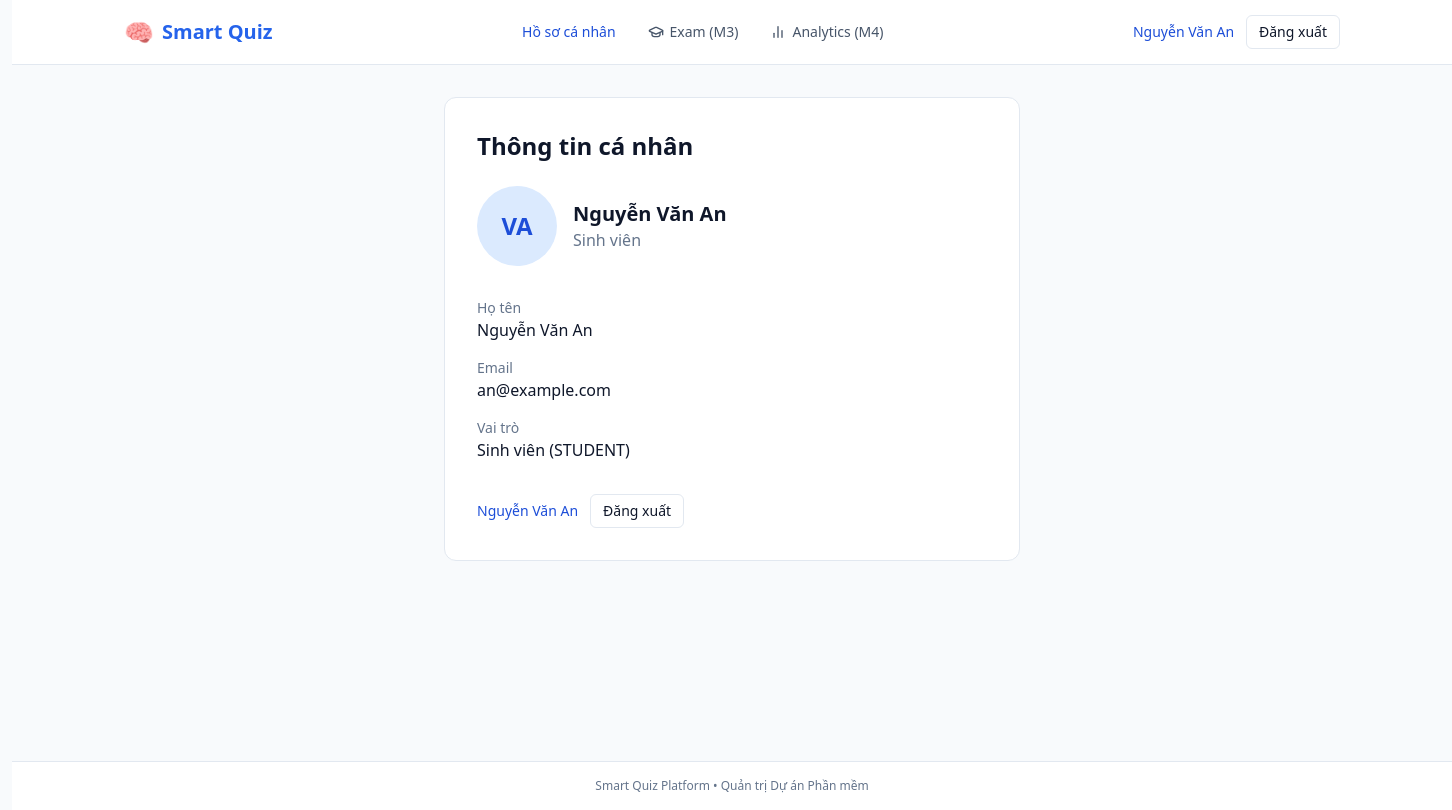
Test: profile and logout › waits for logout before navigating to login
Later steps or results of the test are not shown.
Click the button "Đăng xuất" in the row of "Analytics (M4)": x=1293, y=32 [1246, 15, 1340, 49]
(page scrolled)
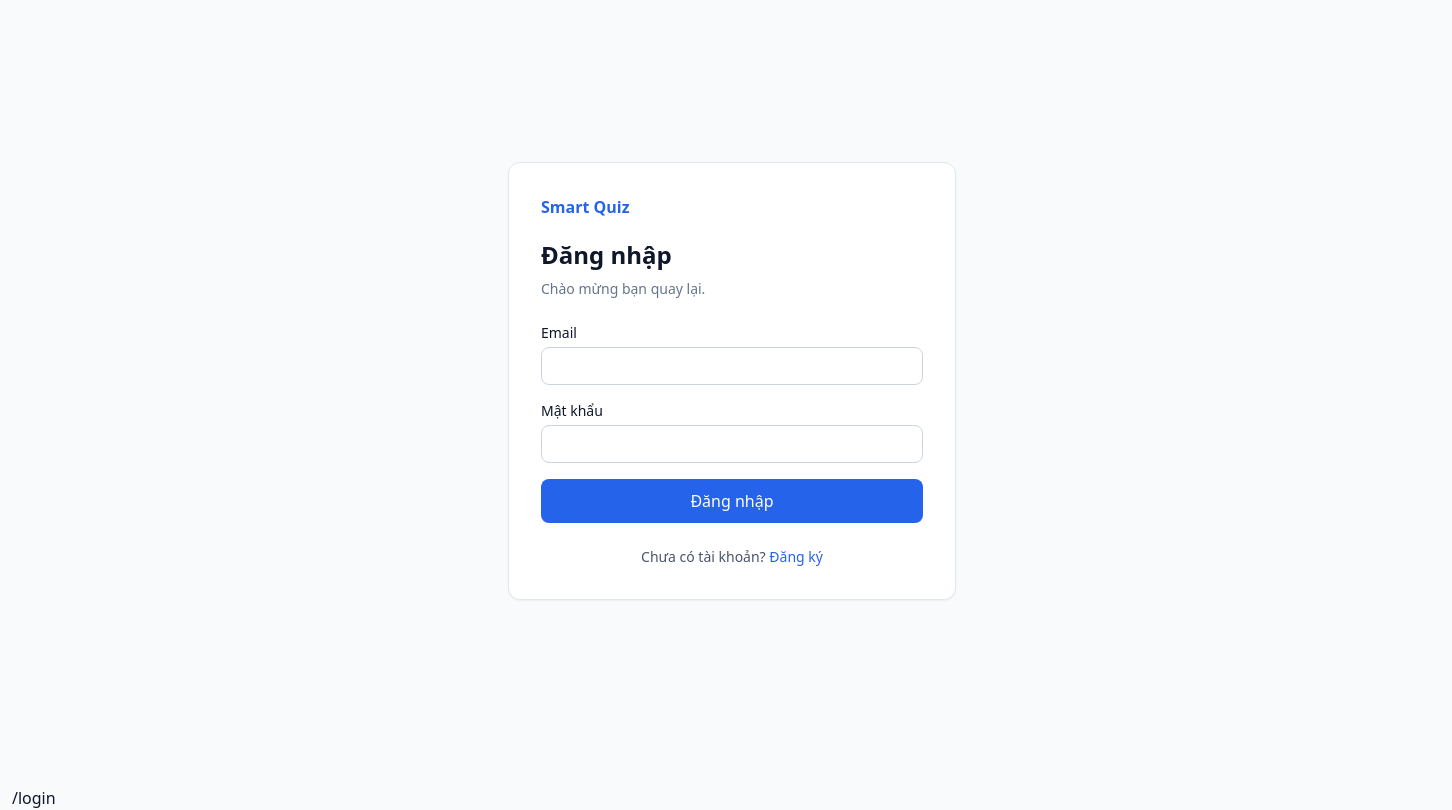
Now the text with test id "location" reads "/login", box [12, 787, 56, 809]
